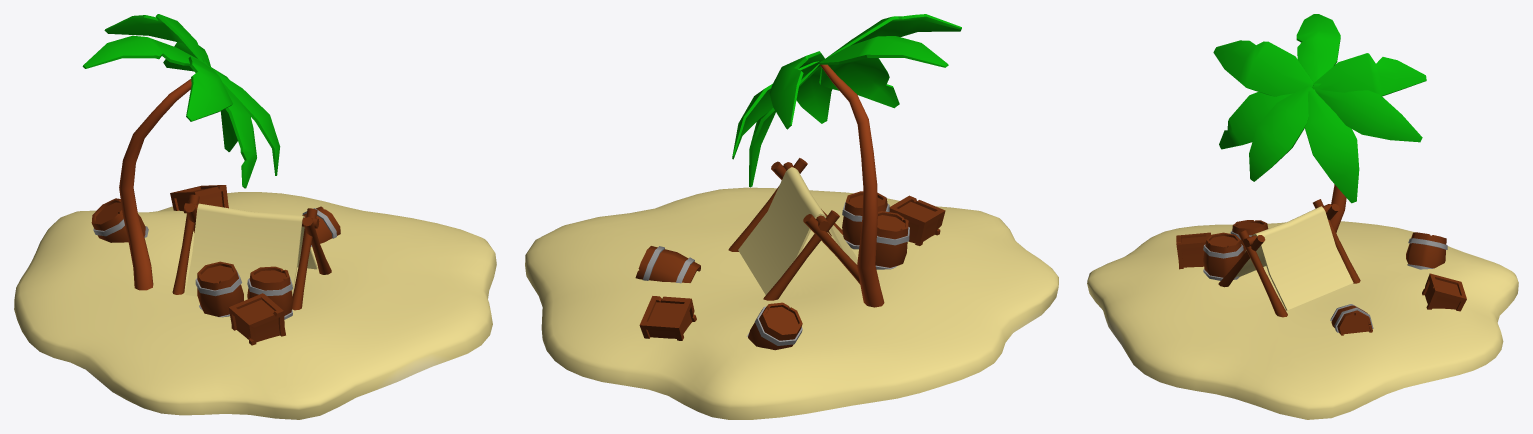
The model's file is Island_tent.fbx.
The picture shows the model from 3 angles, left to right: view 1: azimuth 30°, elevation 25°; view 2: azimuth 150°, elevation 25°; view 3: azimuth 270°, elevation 25°; orthographic projection. The views are drawn at different scales.
Parts seen in each view (by area): view 1: Island_tent; view 2: Island_tent; view 3: Island_tent.
Part boxes in pixels (x1,y1,x2,y2): Island_tent: (14,14,496,419); Island_tent: (525,14,1058,419); Island_tent: (1087,14,1518,419).
Size of the model in its own units: 2443 by 1543 by 2406.
